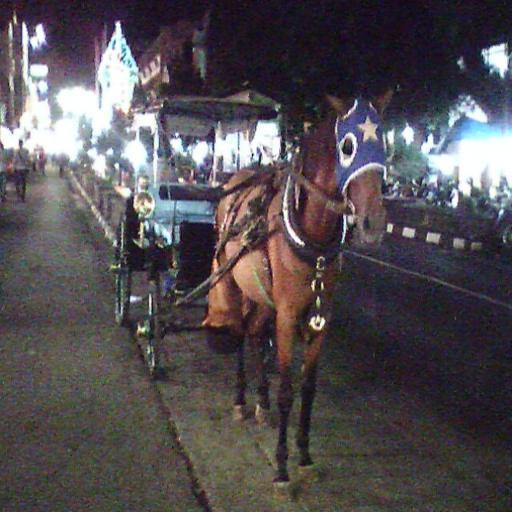Horse: (212, 90, 395, 506)
